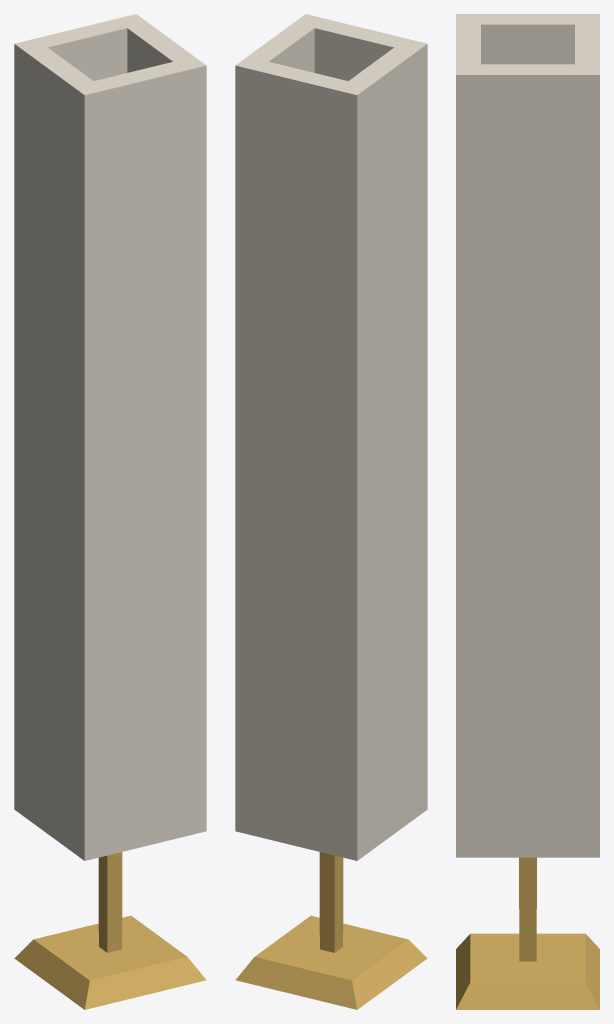
Rendered from floor-lamp-square.glb.
The picture shows the model from 3 angles, left to right: view 1: azimuth 30°, elevation 25°; view 2: azimuth 150°, elevation 25°; view 3: azimuth 270°, elevation 25°; orthographic projection. The views are drawn at different scales.
Visible parts, largest first — view 1: floor-lamp-square; view 2: floor-lamp-square; view 3: floor-lamp-square.
Boxes of the visible parts, x1=… form: floor-lamp-square: x1=14, y1=14, x2=206, y2=1009; floor-lamp-square: x1=235, y1=14, x2=427, y2=1009; floor-lamp-square: x1=456, y1=14, x2=599, y2=1009.
Bounding box in the file's own units: 0.24 × 1.72 × 0.24.
